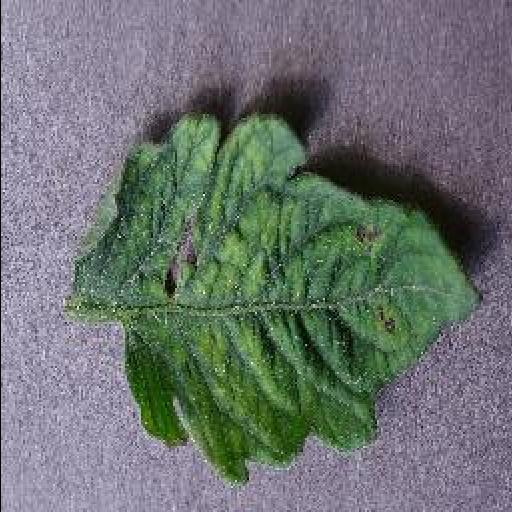Mosaic Virus: (73, 113, 487, 487)
